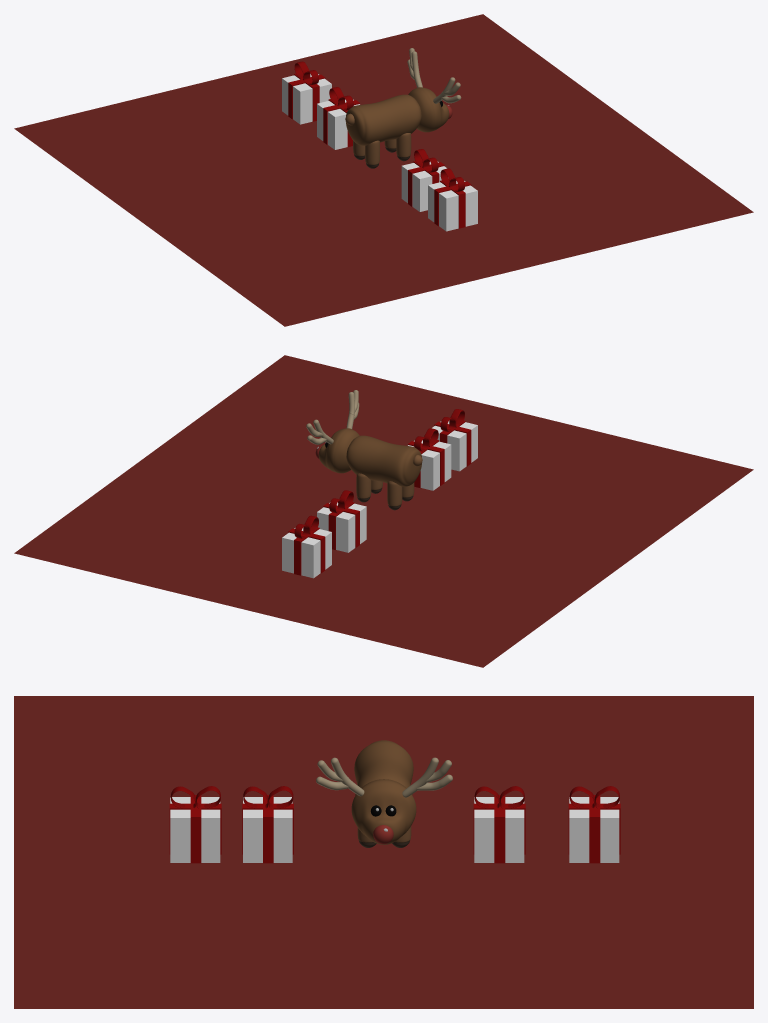
File: venado regalos.fbx
The picture shows the model from 3 angles, top to bottom: view 1: azimuth 30°, elevation 25°; view 2: azimuth 150°, elevation 25°; view 3: azimuth 270°, elevation 25°; orthographic projection. The views are drawn at different scales.
Parts seen in each view (by area): view 1: pPlane2, pCylinder1, pCube5, pCube11, pCube8, pSphere2, pCube1; view 2: pPlane2, pCylinder1, pCube11, pCube8, pCube1, pSphere2, pCube5; view 3: pPlane2, pSphere2, pCube5, pCube8, pCube11, pCube1, pCylinder1, pCube12, pCube6, pCube9, pCube2.
Boxes of the visible parts, x1=… form: pPlane2: x1=14, y1=14, x2=753, y2=326; pCylinder1: x1=346, y1=94, x2=421, y2=145; pCube5: x1=428, y1=181, x2=477, y2=231; pCube11: x1=282, y1=74, x2=331, y2=124; pCube8: x1=317, y1=99, x2=359, y2=149; pSphere2: x1=408, y1=87, x2=449, y2=132; pCube1: x1=401, y1=161, x2=446, y2=211; pPlane2: x1=14, y1=355, x2=753, y2=667; pCylinder1: x1=346, y1=435, x2=421, y2=486; pCube11: x1=282, y1=527, x2=331, y2=578; pCube8: x1=317, y1=502, x2=366, y2=552; pCube1: x1=408, y1=440, x2=451, y2=490; pSphere2: x1=318, y1=428, x2=359, y2=473; pCube5: x1=432, y1=420, x2=477, y2=471; pPlane2: x1=14, y1=696, x2=753, y2=1008; pSphere2: x1=351, y1=779, x2=416, y2=844; pCube5: x1=170, y1=797, x2=220, y2=862; pCube8: x1=474, y1=797, x2=524, y2=862; pCube11: x1=569, y1=797, x2=619, y2=862; pCube1: x1=243, y1=797, x2=292, y2=862; pCylinder1: x1=354, y1=740, x2=413, y2=795; pCube12: x1=589, y1=795, x2=600, y2=863; pCube6: x1=190, y1=795, x2=201, y2=863; pCube9: x1=494, y1=795, x2=505, y2=863; pCube2: x1=263, y1=795, x2=273, y2=863.
Size of the model in its own units: 24.35 by 4.66 by 24.35.
